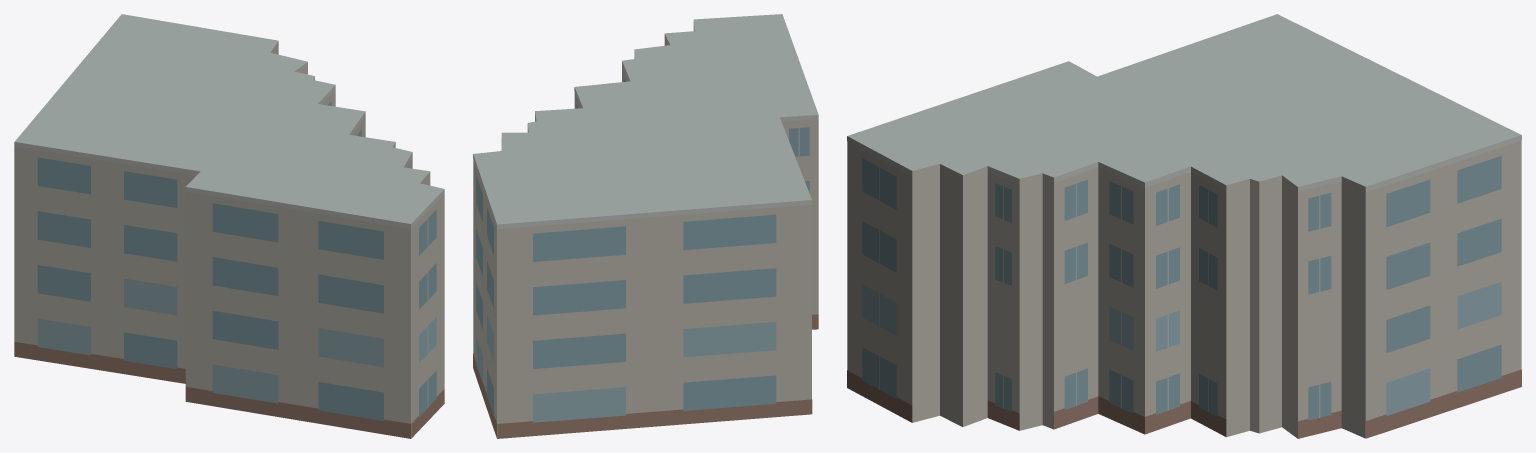
Rendered from survey-upis-32587799.glb.
3 views of the same model, side by side, from view 1: azimuth 30°, elevation 25°; view 2: azimuth 150°, elevation 25°; view 3: azimuth 270°, elevation 25° (orthographic). The views are drawn at different scales.
Visible parts, largest first — view 1: survey-upis-32587799.tmp; view 2: survey-upis-32587799.tmp; view 3: survey-upis-32587799.tmp.
Part boxes in pixels (box(x1,y1,x2,y2)): survey-upis-32587799.tmp: box(14, 14, 444, 438); survey-upis-32587799.tmp: box(473, 14, 818, 438); survey-upis-32587799.tmp: box(847, 14, 1521, 438).
Size of the model in its own units: 16.65 by 11.3 by 27.43.
